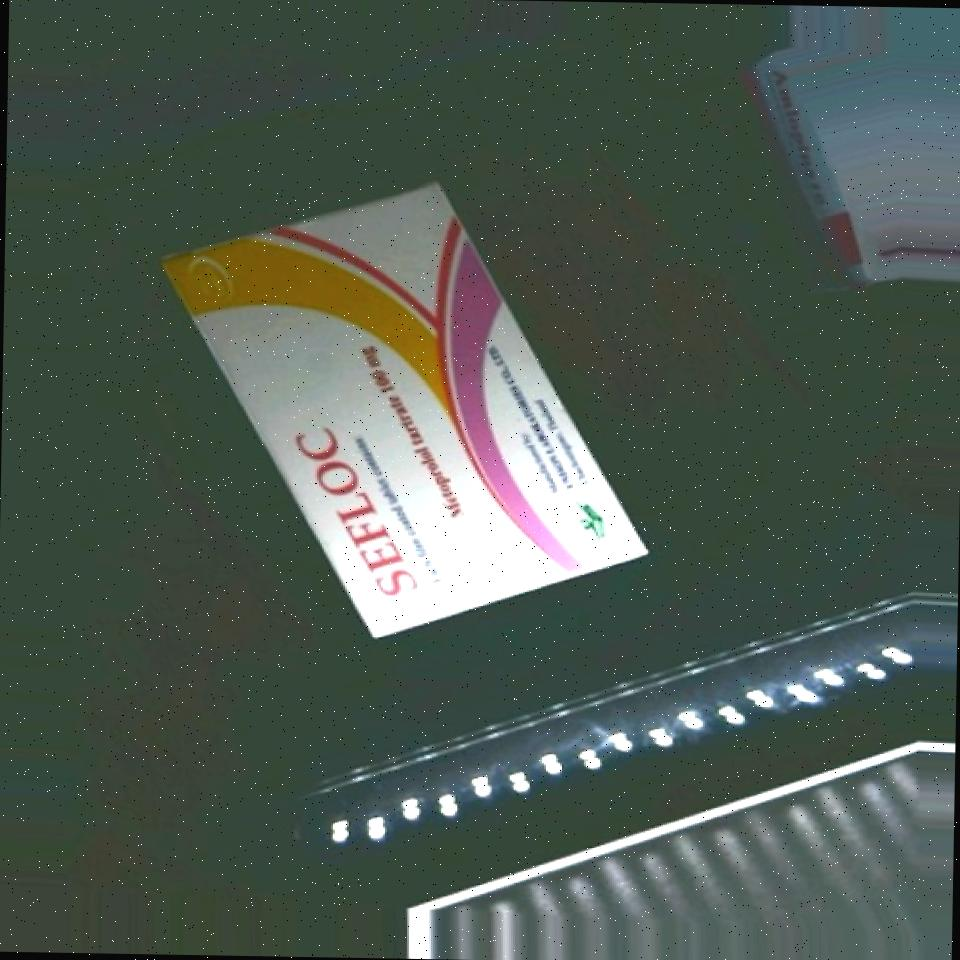sefloc: (160, 124, 648, 693)
